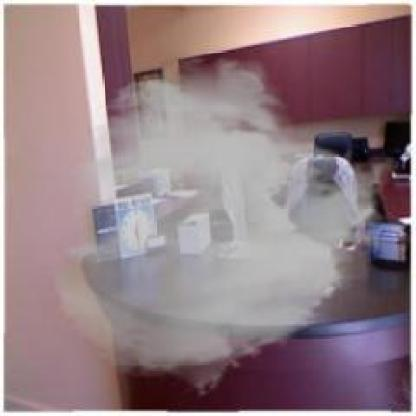Smoke: (50, 54, 402, 397)
